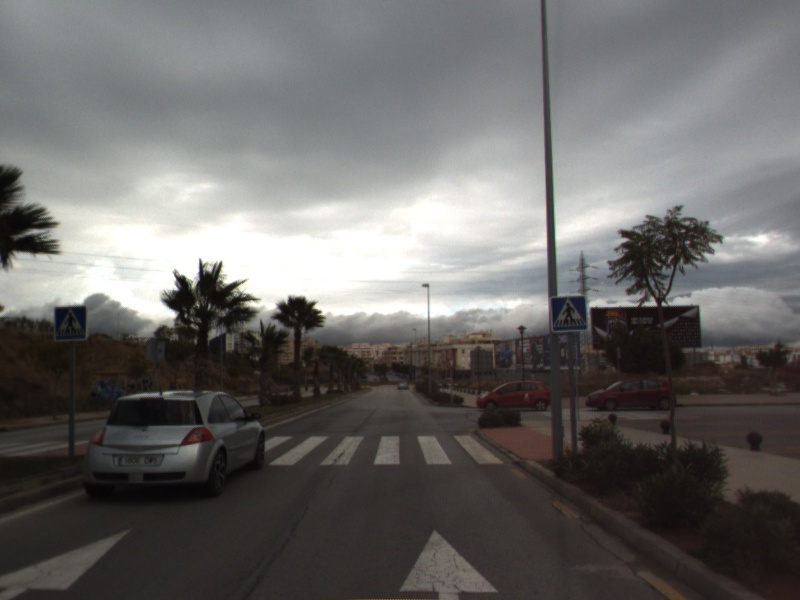STRAIGHT: (1, 523, 137, 600), (395, 525, 503, 600)
